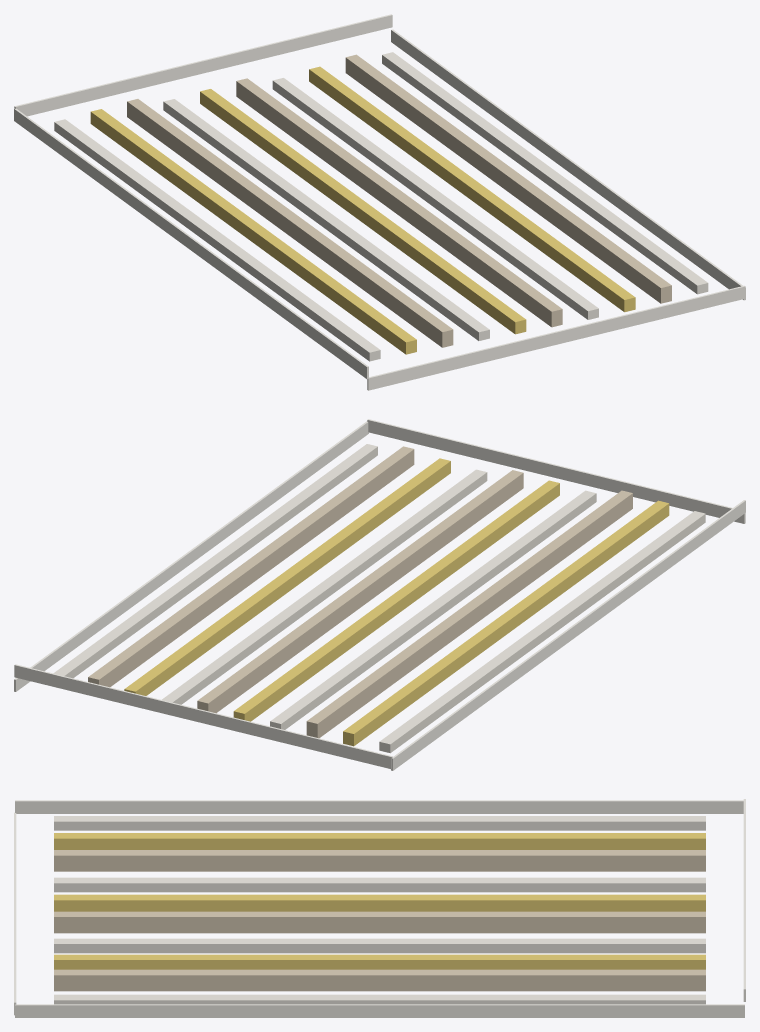
The model's file is sav_cemetery.glb.
3 views of the same model, one above another, from view 1: azimuth 30°, elevation 25°; view 2: azimuth 150°, elevation 25°; view 3: azimuth 270°, elevation 25° (orthographic). The views are drawn at different scales.
Visible parts, largest first — view 1: sav_cemetery_lod0; view 2: sav_cemetery_lod0; view 3: sav_cemetery_lod0.
Part boxes in pixels (<box>): sav_cemetery_lod0: <box>14,14,745,390</box>; sav_cemetery_lod0: <box>14,419,745,770</box>; sav_cemetery_lod0: <box>14,799,745,1017</box>.
Size of what is drawn, in the model's own units: 58.3 by 4.2 by 94.3.
